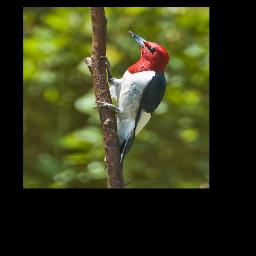Woodpecker: (94, 32, 171, 168)
